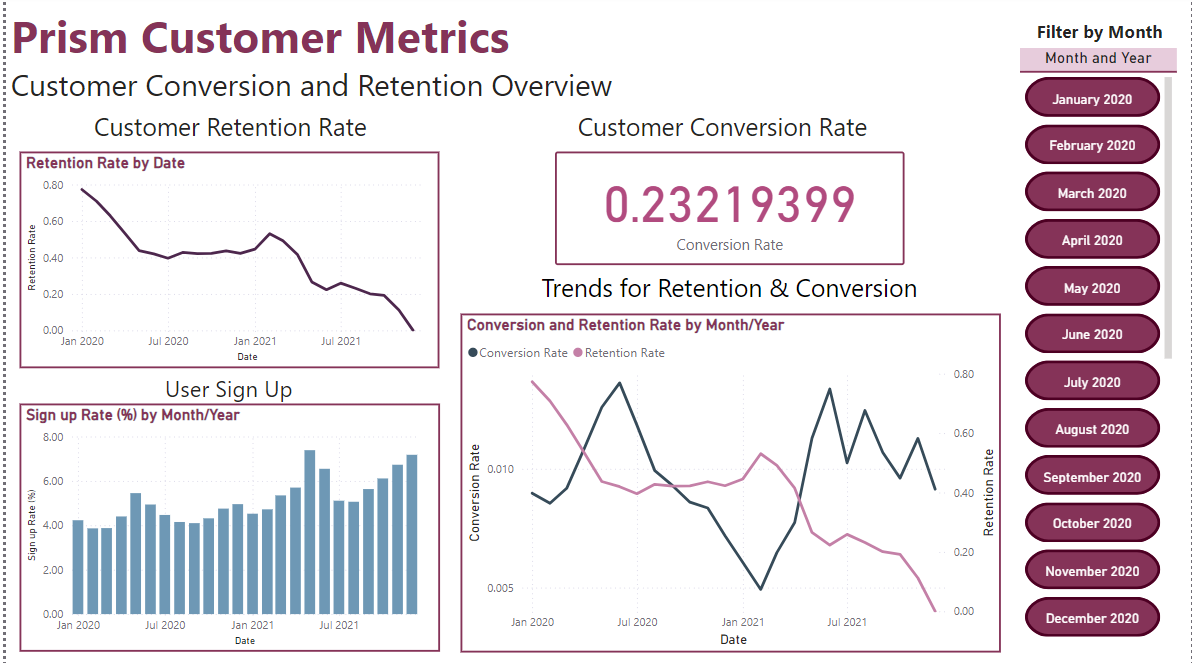

The page's visual inventory and layout, read from the dashboard file:
{"tool":"powerbi","page":{"name":"Customer Conversion & Retention","canvas":[1280,720],"ordinal":1},"visuals":[{"type":"textbox","box":[0,0,827.1,149.9],"z":0},{"type":"textbox","box":[81.7,114.1,322.5,49.3],"z":1000},{"type":"textbox","box":[611.3,112.7,339.4,50.7],"z":2000},{"type":"textbox","box":[1102,16,156,36],"z":3000},{"type":"textbox","box":[149.3,397.2,183.1,59.2],"z":4000},{"type":"textbox","box":[569,285.9,425.4,52.1],"z":5000},{"type":"advancedSlicerVisual","title":"Month and Year","fields":{"Values":["DateTable.MonthYear"]},"box":[1094,52.1,169,652.1],"z":6000},{"type":"lineChart","fields":{"Category":["retention.date"],"Y":["Sum(retention.retention_rate)"]},"box":[14.1,163.4,453.5,233.8],"z":7000},{"type":"card","fields":{"Values":["Sum(conversion.conversion_rate)"]},"box":[593,163.4,377.5,122.5],"z":8000},{"type":"columnChart","title":"Sign up Rate (%) by Month/Year","fields":{"Category":["user sign ups.date"],"Y":["Sum(user sign ups.signup_rate_percentage)"]},"box":[14,436,454,268],"z":9000},{"type":"lineChart","title":"Conversion and Retention Rate by Month/Year","fields":{"Y":["Sum(conversion.conversion_rate)"],"Y2":["Sum(retention.retention_rate)"],"Category":["DateTable.MonthYear"]},"box":[490.1,338,583.1,366.2],"z":10000}]}

Visuals, with their boxes in screenshot pixels (x1, y1, x2, y2), scaled from the page's 1280x720 canvas onto the 1192x663 screenshot:
textbox: box=[0, 0, 770, 138]
textbox: box=[76, 105, 376, 150]
textbox: box=[569, 104, 885, 150]
textbox: box=[1026, 15, 1172, 48]
textbox: box=[139, 366, 310, 420]
textbox: box=[530, 263, 926, 311]
"Month and Year" advancedSlicerVisual: box=[1019, 48, 1176, 648]
lineChart - retention.date x Sum(retention.retention_rate): box=[13, 150, 435, 366]
card - Sum(conversion.conversion_rate): box=[552, 150, 904, 263]
"Sign up Rate (%) by Month/Year" columnChart: box=[13, 401, 436, 648]
"Conversion and Retention Rate by Month/Year" lineChart: box=[456, 311, 999, 648]
